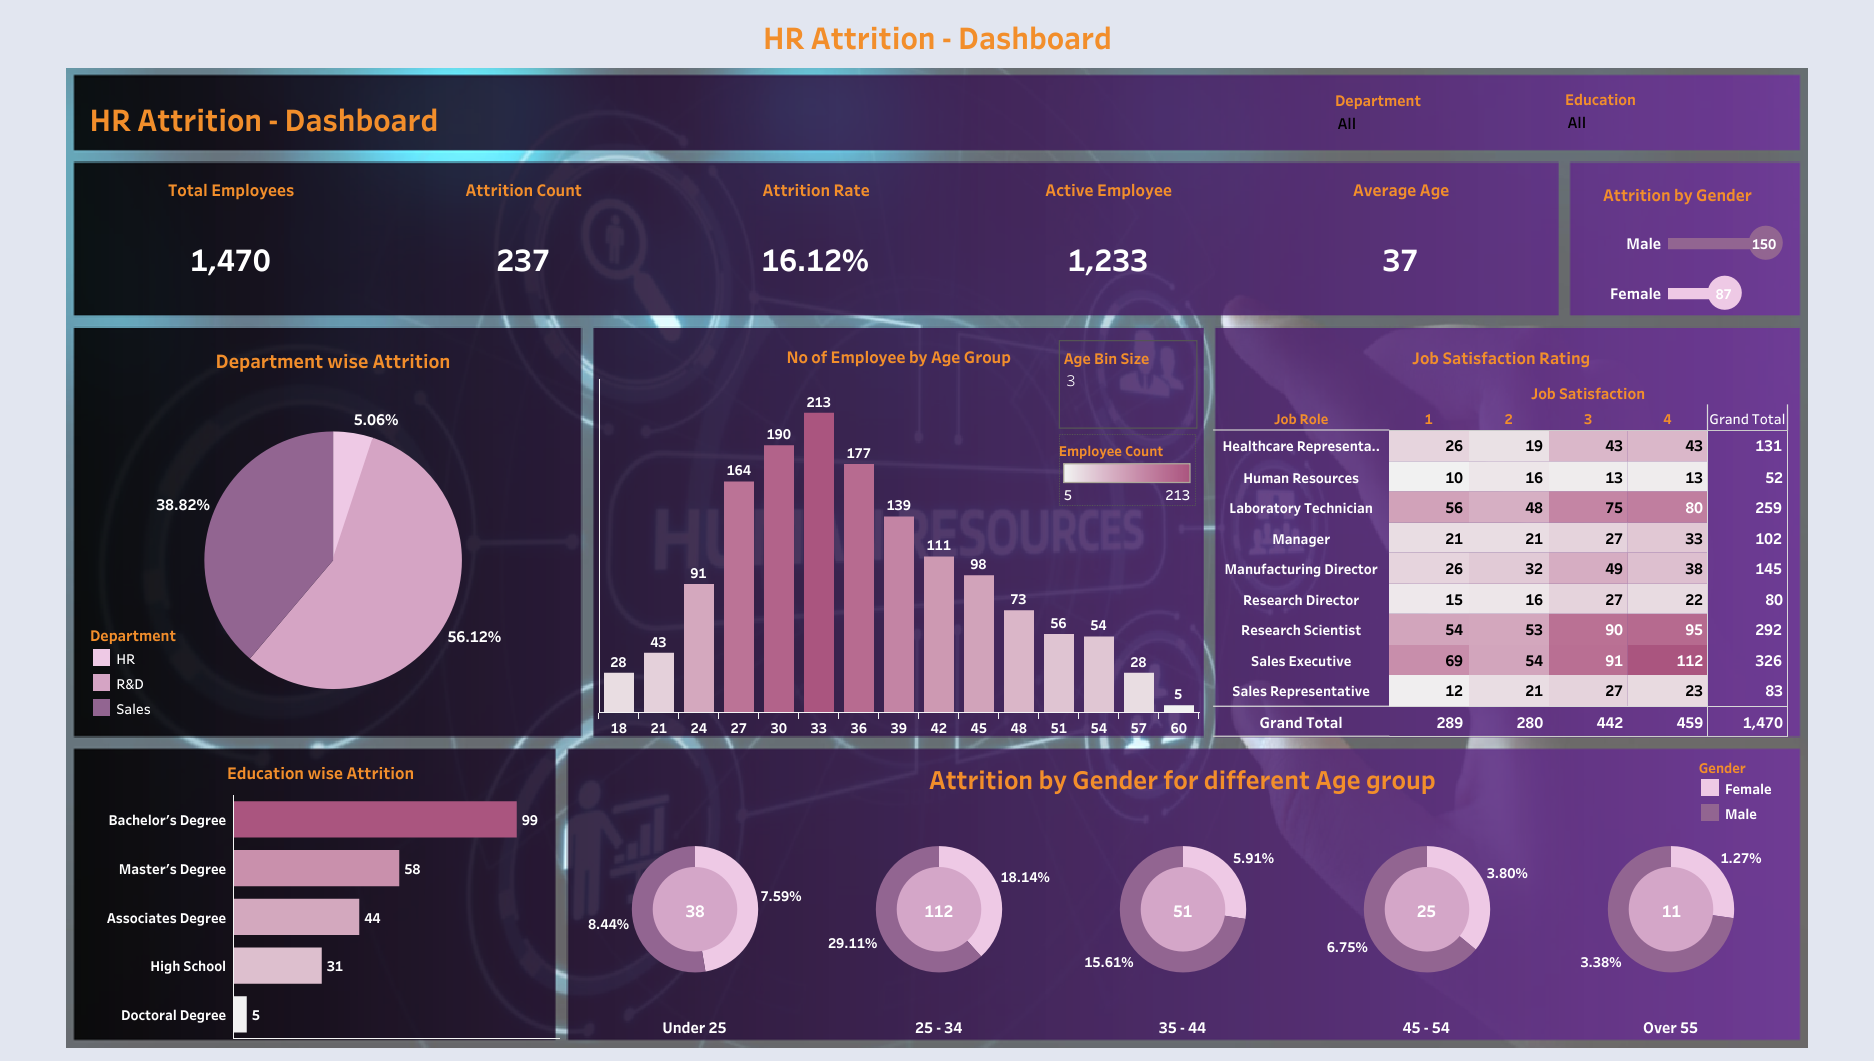

This screenshot's page, from the dashboard's own definition file:
{"tool":"tableau","page":{"name":"HR Attrition - Dashboard","canvas":[1500,850],"ordinal":0},"visuals":[{"type":"title","box":[8,8,1484,49]},{"type":"image","param":"Image/HR background.pptx.png","box":[8,57,1484,785]},{"type":"filter","title":"Department wise Attrition","param":"[federated.0kayo7u0mq14yh141yev613v4s6k].[none:Education:nk]","box":[1252,69,176,51]},{"type":"filter","title":"Department wise Attrition","param":"[federated.0kayo7u0mq14yh141yev613v4s6k].[none:Department:nk]","box":[1068,70,178,52]},{"type":"text","box":[69,74,356,41]},{"type":"worksheet","title":"Attrition by Gender","mark":"Automatic","rows":["Gender"],"cols":["Calculation_267964197358419968","Calculation_267964197358419968"],"box":[1254,140,176,114]},{"type":"worksheet","title":"KPI","mark":"Automatic","box":[68,141,1170,112]},{"type":"worksheet","title":"No of Employee by Age Group","mark":"Automatic","rows":["Employee Count"],"cols":["Age (bin)"],"box":[479,269,480,321]},{"type":"worksheet","title":"Job Satisfaction Rating","mark":"Square","rows":["Job Role"],"cols":["Job Satisfaction"],"box":[971,270,460,320]},{"type":"worksheet","title":"Department wise Attrition","mark":"Pie","box":[68,271,397,318]},{"type":"parameter","param":"[Parameters].[Parameter 1]","box":[847,272,111,71]},{"type":"legend","title":"No of Employee by Age Group","param":"[federated.0kayo7u0mq14yh141yev613v4s6k].[sum:Employee Count:qk]","box":[847,347,110,62]},{"type":"legend","title":"Department wise Attrition","param":"[federated.0kayo7u0mq14yh141yev613v4s6k].[none:Department:nk]","box":[71,497,99,88]},{"type":"worksheet","title":"Education wise Attrition","mark":"Automatic","rows":["Education"],"cols":["Calculation_267964197358419968"],"box":[66,602,381,229]},{"type":"worksheet","title":"Attrition by Gender for different Age group","mark":"Pie","rows":["Calculation_267964197383516164","Calculation_267964197383516164"],"cols":["CF_age band"],"box":[458,603,976,227]},{"type":"legend","title":"Attrition by Gender for different Age group","param":"[federated.0kayo7u0mq14yh141yev613v4s6k].[none:Gender:nk]","box":[1358,604,72,59]}]}

Visuals, with their boxes in screenshot pixels (x1, y1, x2, y2), scaled from the page's 1500x850 canvas onto the 1874x1061 screenshot:
title: crop(10, 10, 1864, 71)
image: crop(10, 71, 1864, 1051)
"Department wise Attrition" filter: crop(1564, 86, 1784, 150)
"Department wise Attrition" filter: crop(1334, 87, 1557, 152)
text: crop(86, 92, 531, 144)
"Attrition by Gender" worksheet: crop(1567, 175, 1787, 317)
"KPI" worksheet: crop(85, 176, 1547, 316)
"No of Employee by Age Group" worksheet: crop(598, 336, 1198, 736)
"Job Satisfaction Rating" worksheet (Square marks): crop(1213, 337, 1788, 736)
"Department wise Attrition" worksheet (Pie marks): crop(85, 338, 581, 735)
parameter: crop(1058, 340, 1197, 428)
"No of Employee by Age Group" legend: crop(1058, 433, 1196, 511)
"Department wise Attrition" legend: crop(89, 620, 212, 730)
"Education wise Attrition" worksheet: crop(82, 751, 558, 1037)
"Attrition by Gender for different Age group" worksheet (Pie marks): crop(572, 753, 1792, 1036)
"Attrition by Gender for different Age group" legend: crop(1697, 754, 1787, 828)
